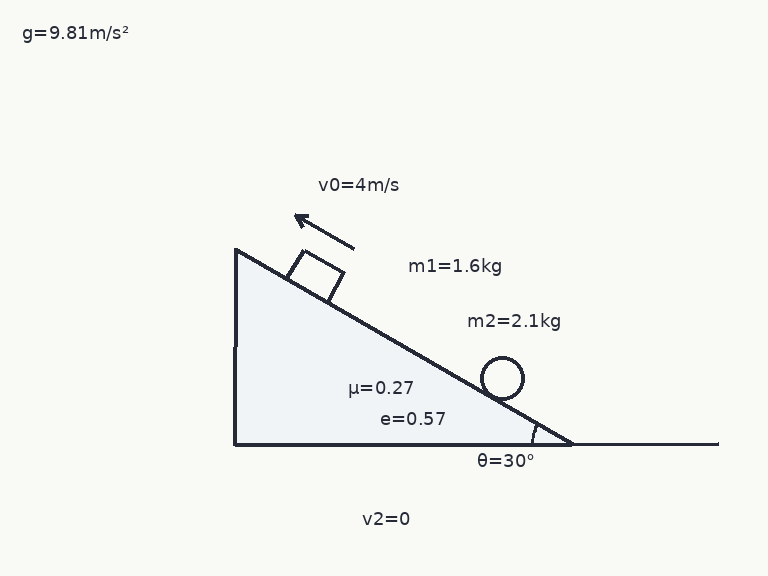ball: (478, 354, 526, 402)
block: (284, 248, 345, 304)
ramp: (233, 248, 574, 446)
